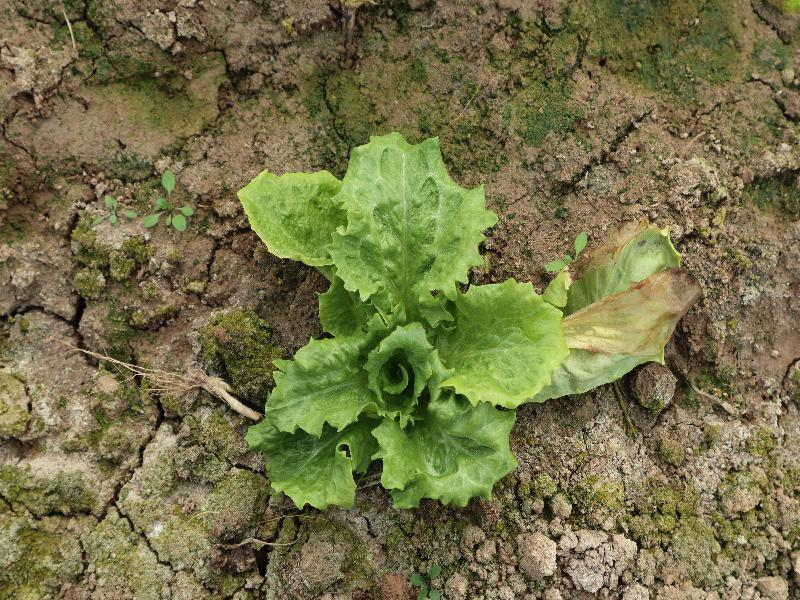lettuce: (237, 132, 569, 512)
